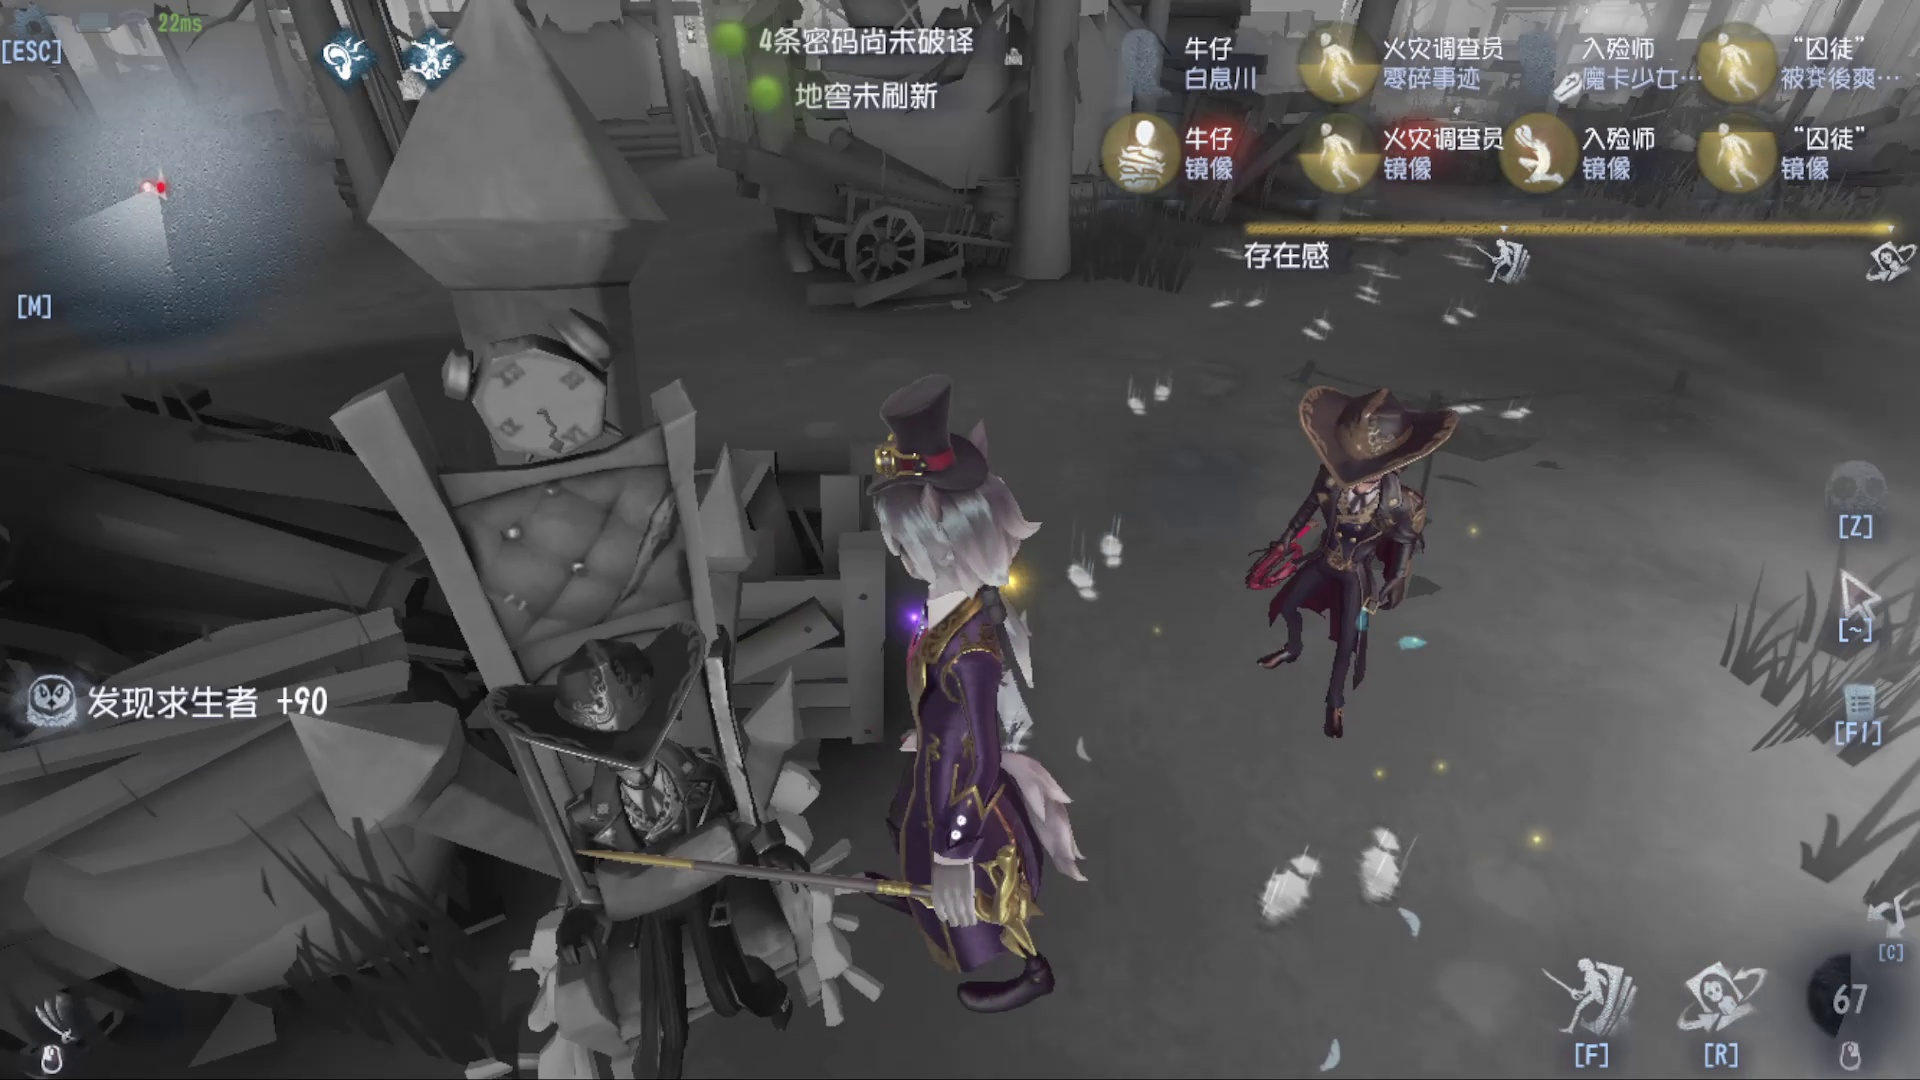求生者: (497, 611, 793, 992), (1233, 364, 1464, 793)
